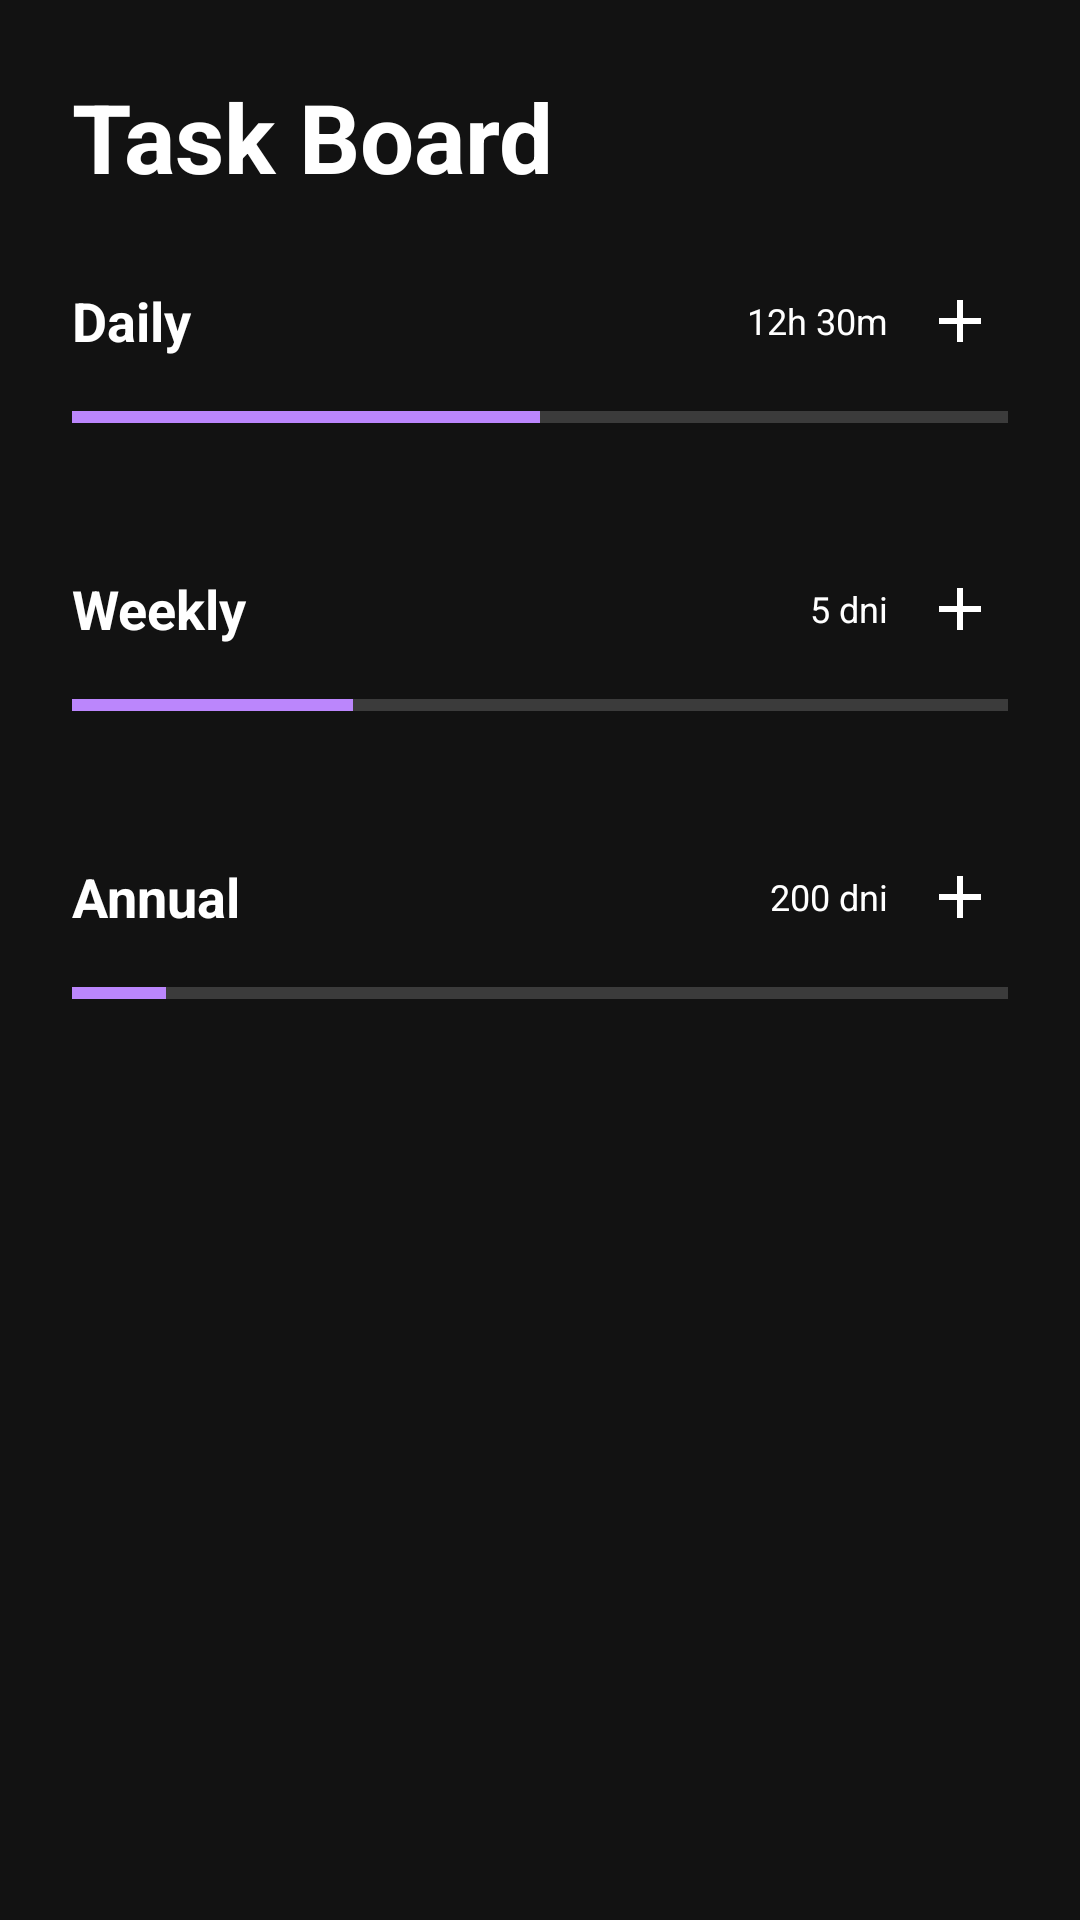

Locate icon controls on the screen. Image size 1080×1920, boxes as {"x1": x1, "y1": y1, "x2": x2, "y2": y2}.
custom add: {"x1": 939, "y1": 300, "x2": 981, "y2": 342}, {"x1": 939, "y1": 588, "x2": 981, "y2": 630}, {"x1": 939, "y1": 876, "x2": 981, "y2": 918}
